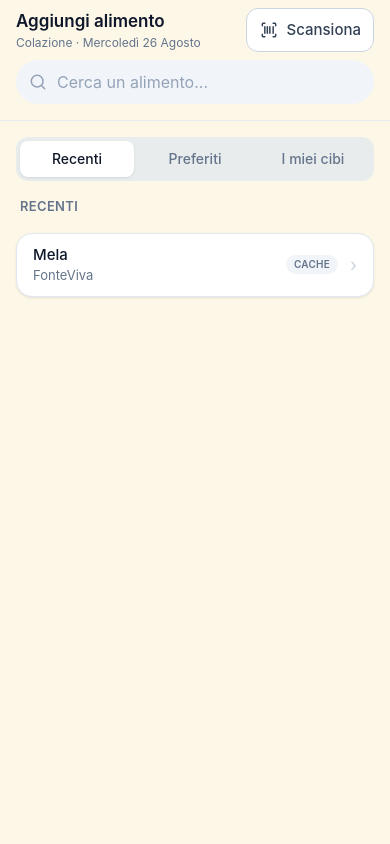
Test: SearchPage results › opens the QuantityPicker when a result is clicked
This screenshot has width=390, height=844.
Click the text "Mela" at coordinates (50, 254), box left=33, top=244, right=68, bottom=264
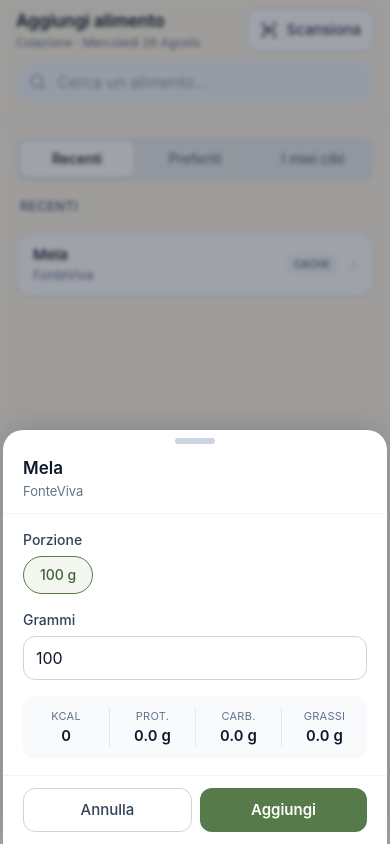
Result: the dialog named "quantità per mela" is shown
